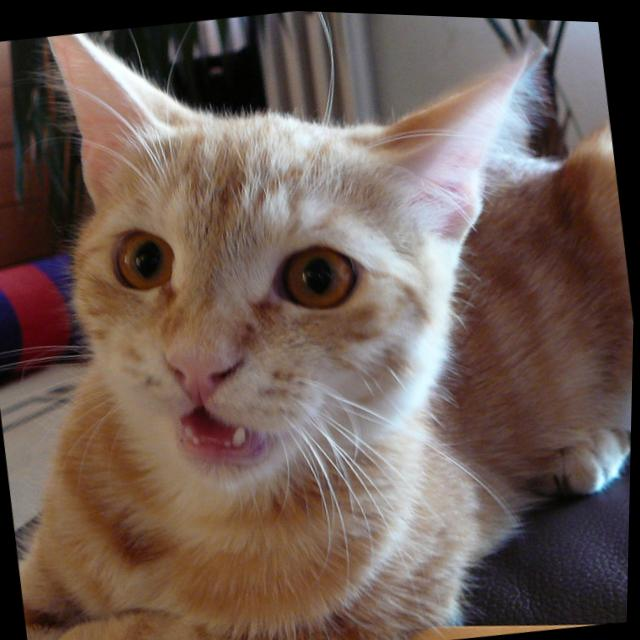animals: (37, 1, 567, 412)
